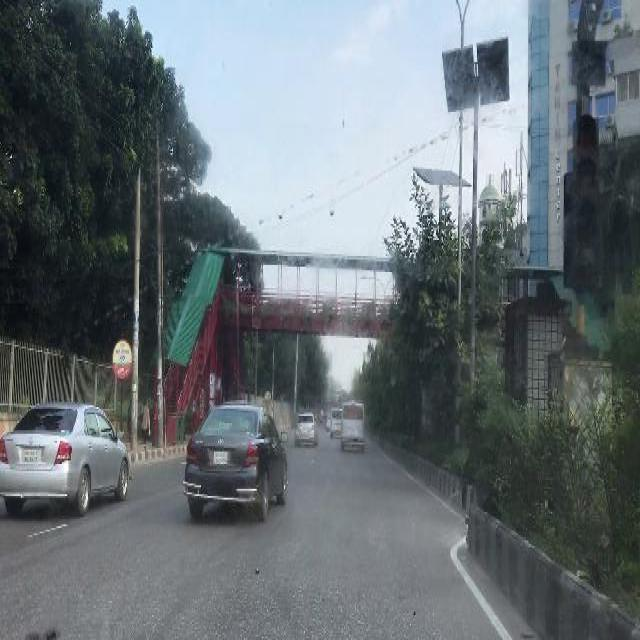ambulance: (340, 400, 366, 453)
car: (0, 398, 134, 519), (182, 403, 288, 525), (294, 411, 318, 449)
van: (330, 404, 342, 438)
